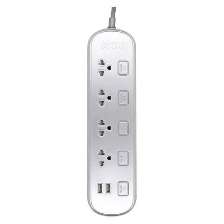three_eye_plug: (84, 25, 138, 218)
